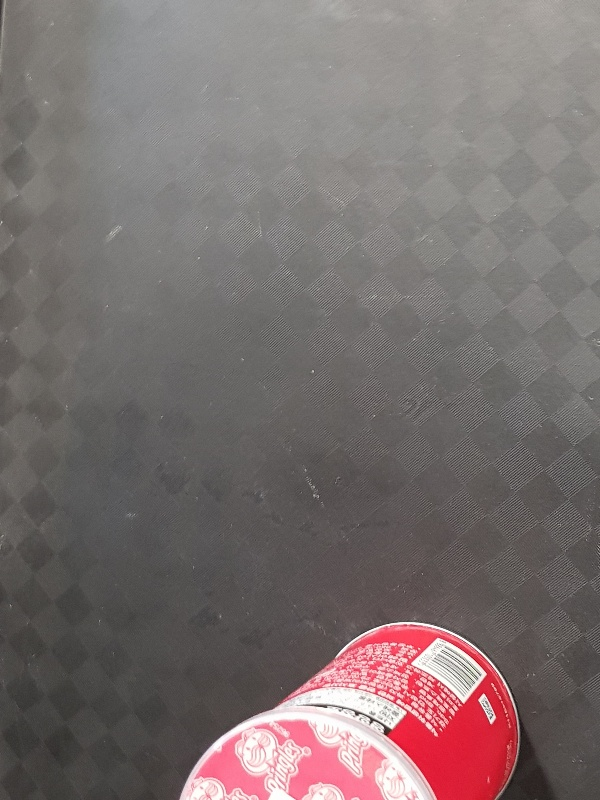Pringles Original: (176, 618, 520, 800)
